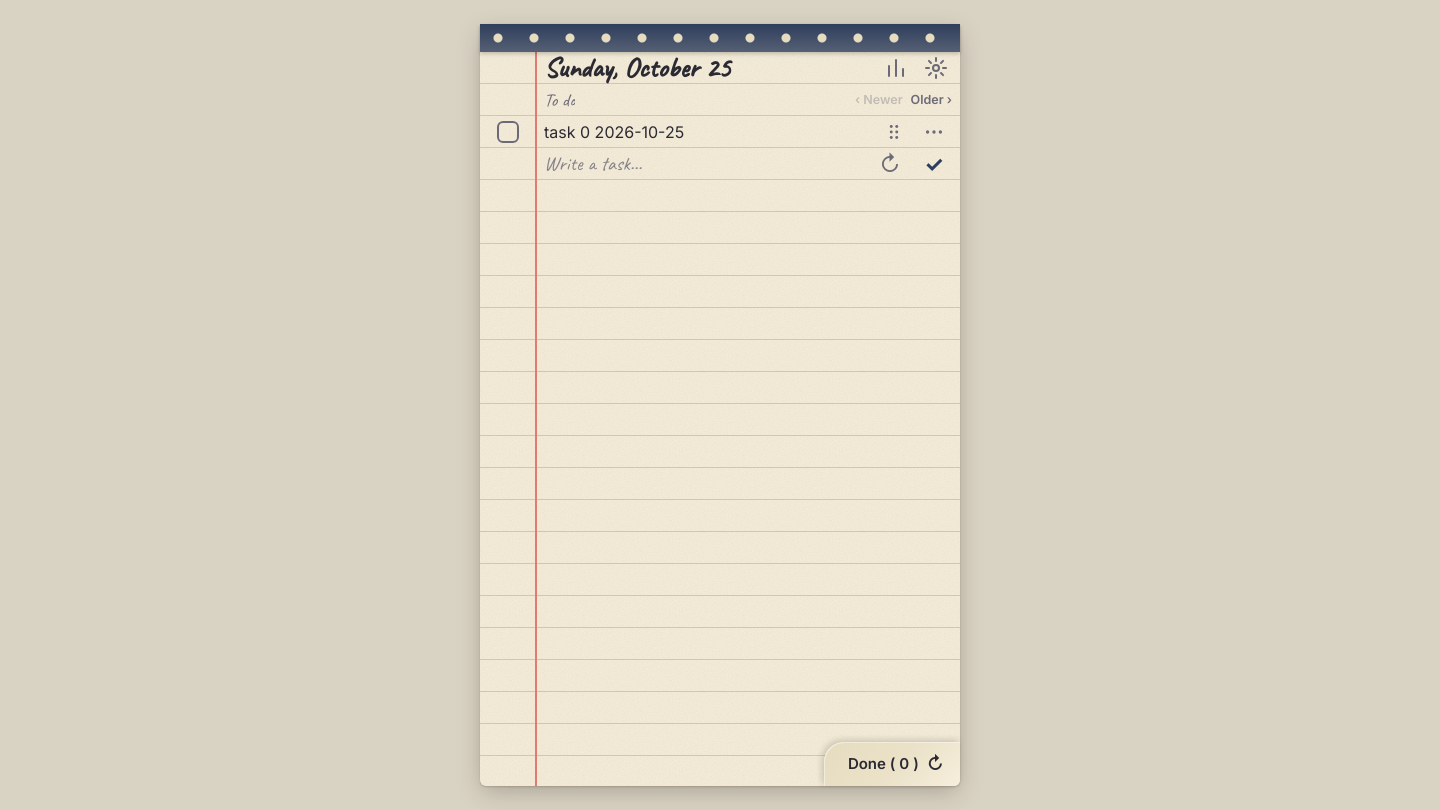
data safety information › shows the version
Click the button named "Settings" at (936, 68), box left=916, top=46, right=956, bottom=90
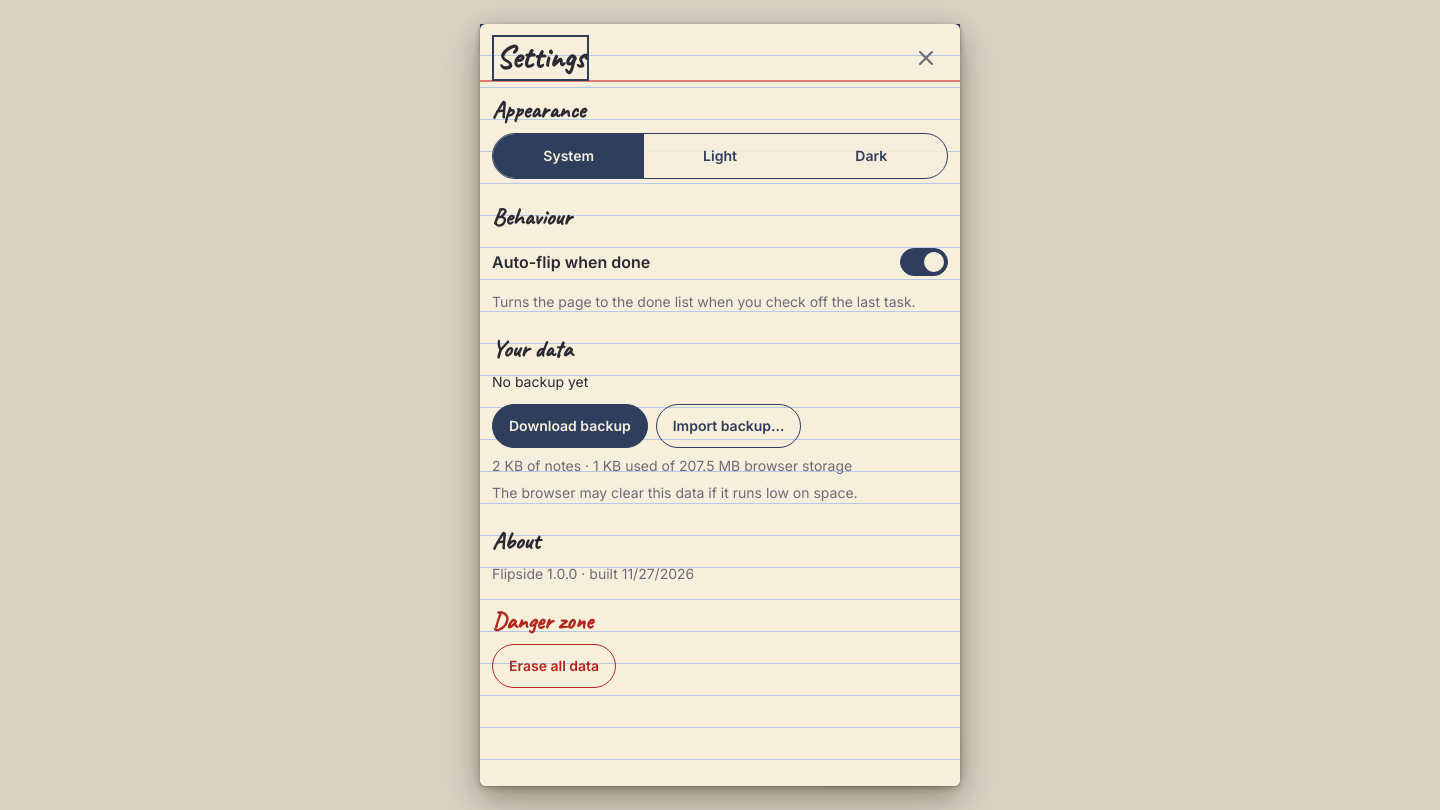
Now the dialog "Settings" is shown, box left=480, top=24, right=960, bottom=786
Now the text "Flipside 1.0.0 · built 11/27/2026" is shown, box left=492, top=565, right=694, bottom=582
